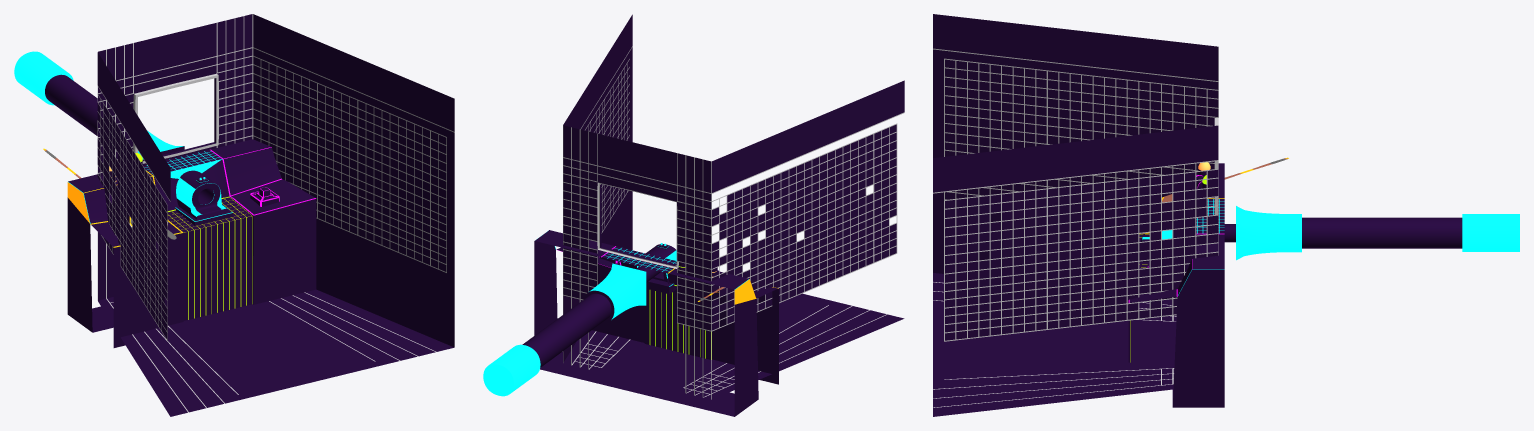
Rendered from turret_pov (2).fbx.
3 views of the same model, side by side, from view 1: azimuth 30°, elevation 25°; view 2: azimuth 150°, elevation 25°; view 3: azimuth 270°, elevation 25° (orthographic). The views are drawn at different scales.
Visible parts, largest first — view 1: turret room, Cube, loading port; view 2: turret room, Cube, loading port; view 3: turret room, loading port, Cube.
Boxes of the visible parts, x1,y1,x2,y2 form: turret room: (97, 14, 454, 416); Cube: (67, 139, 316, 347); loading port: (14, 51, 227, 219); turret room: (563, 14, 904, 399); Cube: (534, 230, 778, 416); loading port: (483, 244, 676, 396); turret room: (933, 14, 1218, 416); loading port: (1141, 206, 1519, 260); Cube: (1128, 163, 1224, 407).
Bounding box in the file's own units: 507 × 440 × 872.
